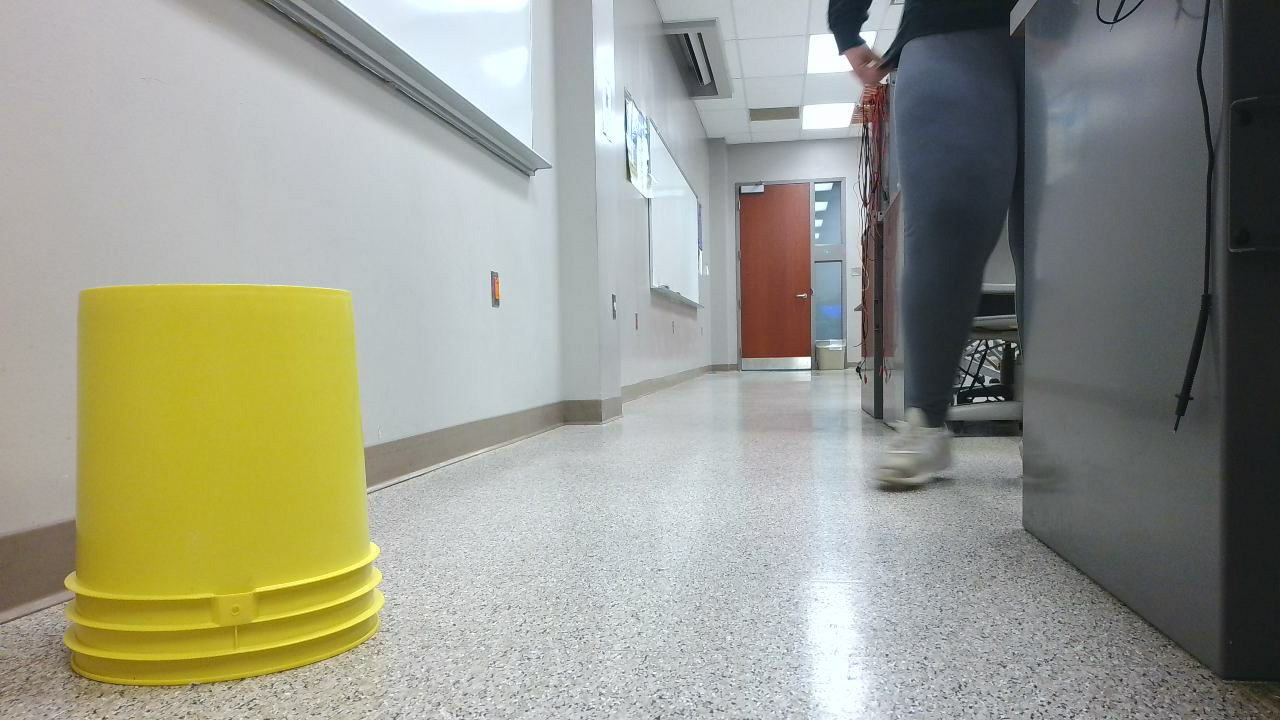yellow_bucket: (61, 284, 395, 700)
